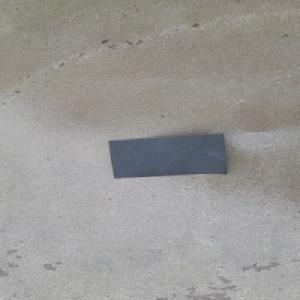PaintChip: (107, 133, 228, 179)
